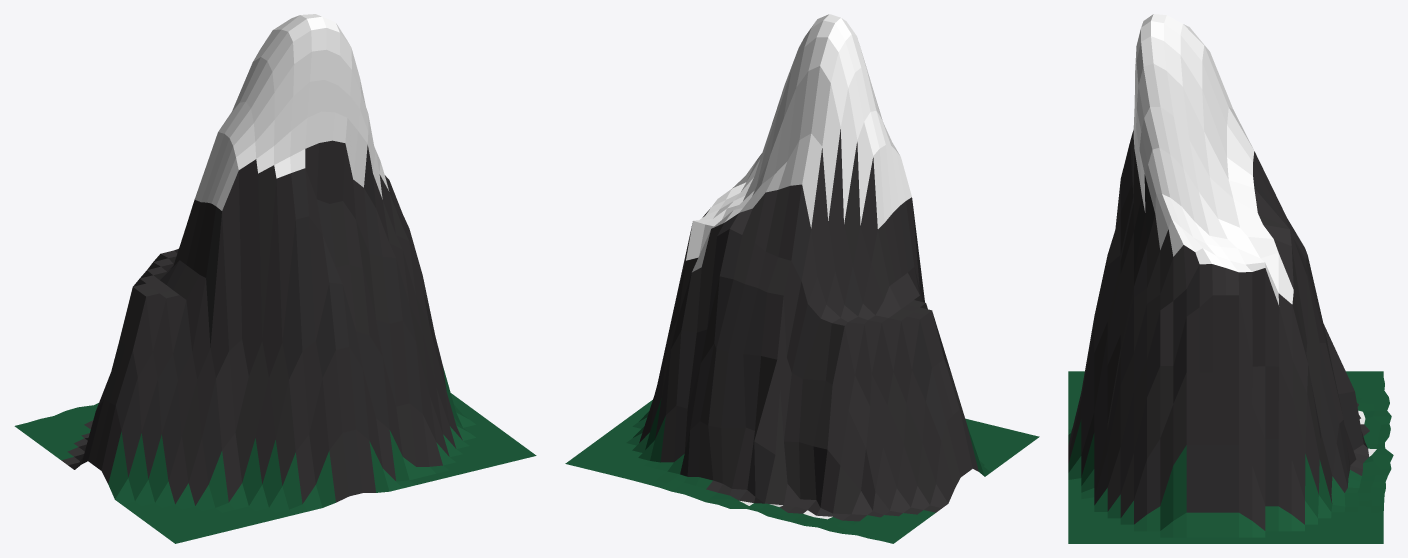
Rendered from Mountain_02.fbx.
3 views of the same model, side by side, from view 1: azimuth 30°, elevation 25°; view 2: azimuth 150°, elevation 25°; view 3: azimuth 270°, elevation 25° (orthographic). The views are drawn at different scales.
Visible parts, largest first — view 1: Mountain_02; view 2: Mountain_02; view 3: Mountain_02.
Boxes of the visible parts, box(x1,y1,x2,y2) form: Mountain_02: box(14, 14, 536, 543); Mountain_02: box(565, 14, 1039, 543); Mountain_02: box(1068, 14, 1393, 543).
Bounding box in the file's own units: 12947 × 15463 × 10319.
